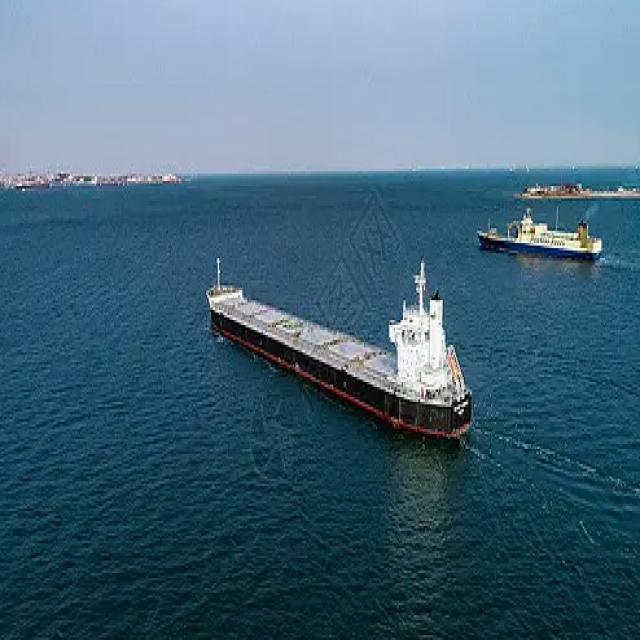cargoship: (202, 232, 474, 450)
fishing boat: (474, 191, 606, 262)
